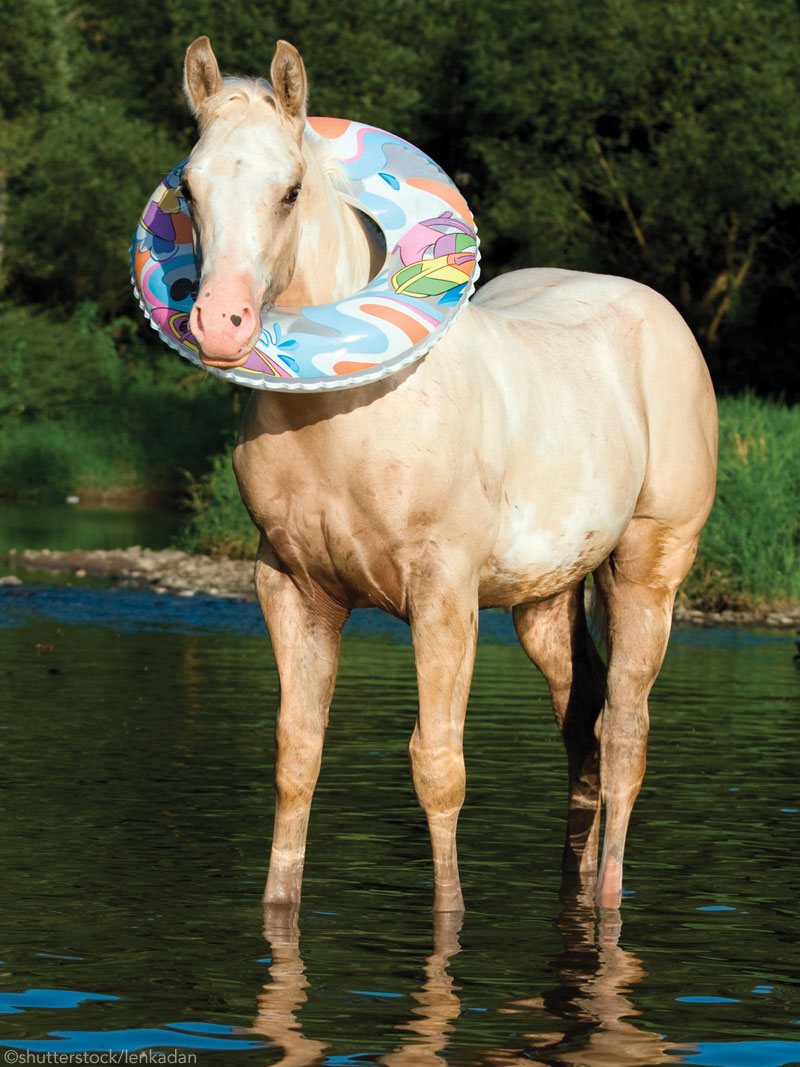Horse: (86, 57, 727, 998)
